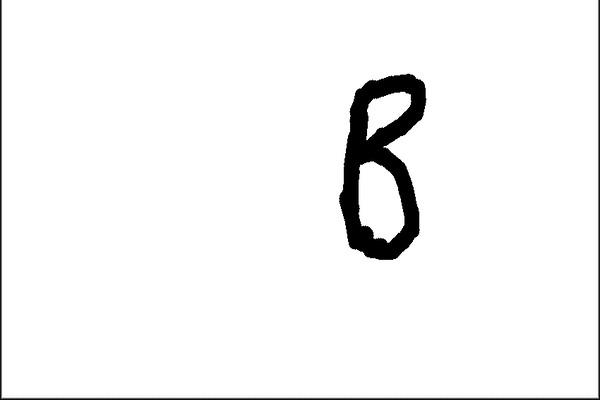B: (330, 68, 432, 265)
